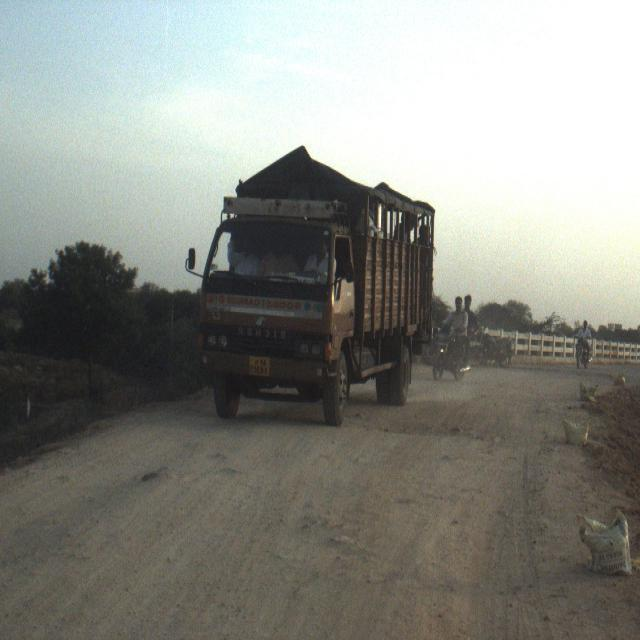Pothole: (423, 382, 523, 491), (107, 444, 202, 518), (360, 393, 415, 495)
